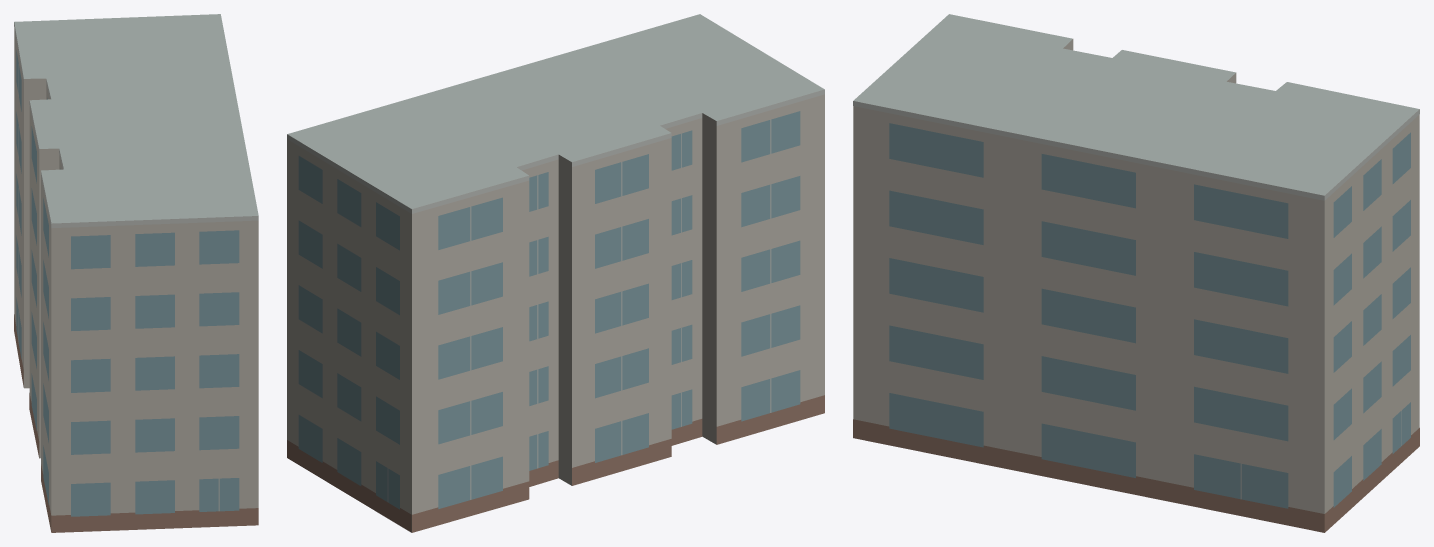
File: survey-upis-32818077.glb
3 renders of one model, left to right at view 1: azimuth 30°, elevation 25°; view 2: azimuth 150°, elevation 25°; view 3: azimuth 270°, elevation 25°, orthographic. The views are drawn at different scales.
Parts seen in each view (by area): view 1: survey-upis-32818077.tmp; view 2: survey-upis-32818077.tmp; view 3: survey-upis-32818077.tmp.
Boxes of the visible parts, left/top/right/bottom form: survey-upis-32818077.tmp: left=14, top=14, right=258, bottom=532; survey-upis-32818077.tmp: left=287, top=14, right=824, bottom=532; survey-upis-32818077.tmp: left=853, top=14, right=1419, bottom=532.
Size of the model in its own units: 18.65 by 16.13 by 24.58.
